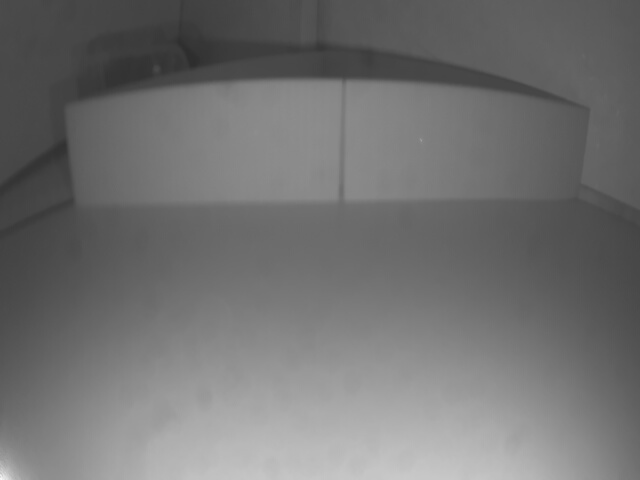Point: (76, 94, 591, 209)
